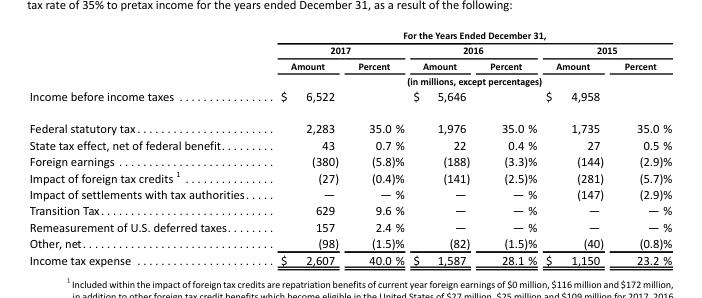table: (28, 28, 671, 267)
table column: (28, 28, 264, 267), (264, 28, 347, 267), (540, 28, 613, 267), (408, 28, 479, 267), (347, 28, 408, 267), (479, 28, 540, 267), (613, 28, 671, 267)
table column header: (28, 28, 671, 87)
table row: (28, 111, 671, 136), (28, 87, 671, 111), (28, 168, 671, 185), (28, 201, 671, 218), (28, 234, 671, 251), (28, 136, 671, 152), (28, 152, 671, 168), (28, 185, 671, 201), (28, 218, 671, 234), (28, 251, 671, 267), (28, 42, 671, 57), (28, 57, 671, 72), (28, 72, 671, 87), (28, 28, 671, 42)
table spanning cell: (264, 72, 671, 87), (264, 28, 671, 42), (264, 42, 408, 57), (408, 42, 540, 57), (540, 42, 671, 57)
